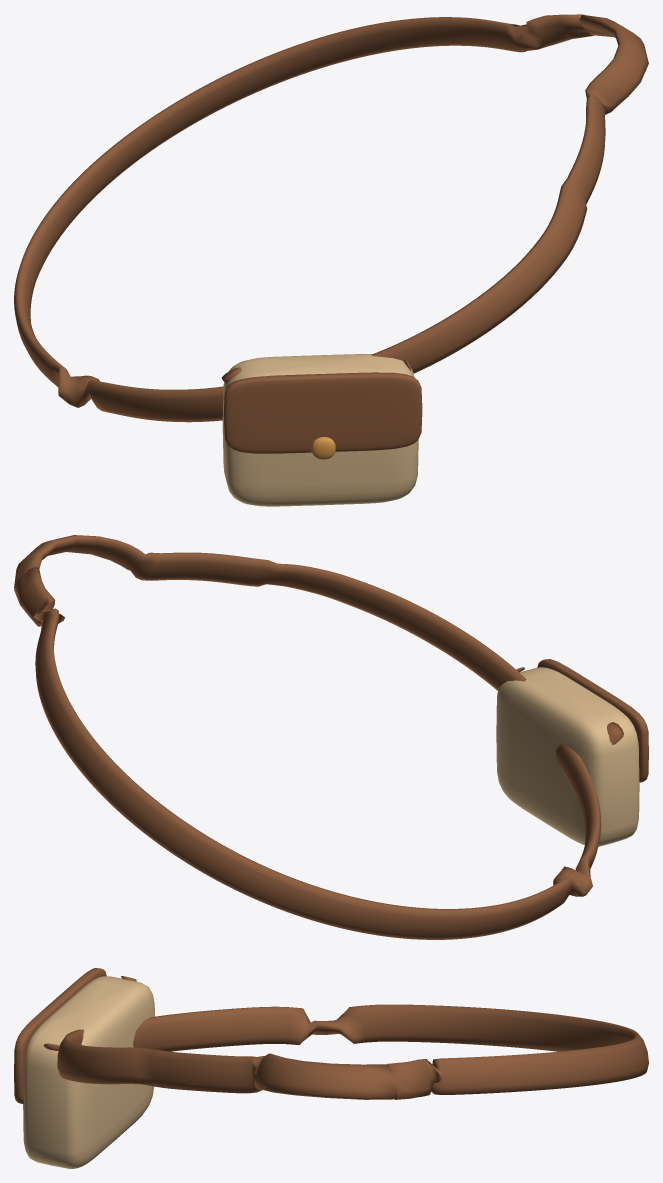
File: crossbody_bag.glb
The picture shows the model from 3 angles, top to bottom: view 1: azimuth 30°, elevation 25°; view 2: azimuth 150°, elevation 25°; view 3: azimuth 270°, elevation 25°; orthographic projection. The views are drawn at different scales.
Parts seen in each view (by area): view 1: crossbody_bag; view 2: crossbody_bag; view 3: crossbody_bag.
Boxes of the visible parts, <box> form: crossbody_bag: <box>14,14,648,506</box>; crossbody_bag: <box>14,535,648,939</box>; crossbody_bag: <box>14,968,648,1168</box>.
Size of the model in its own units: 1.47 by 0.6719 by 1.38.
